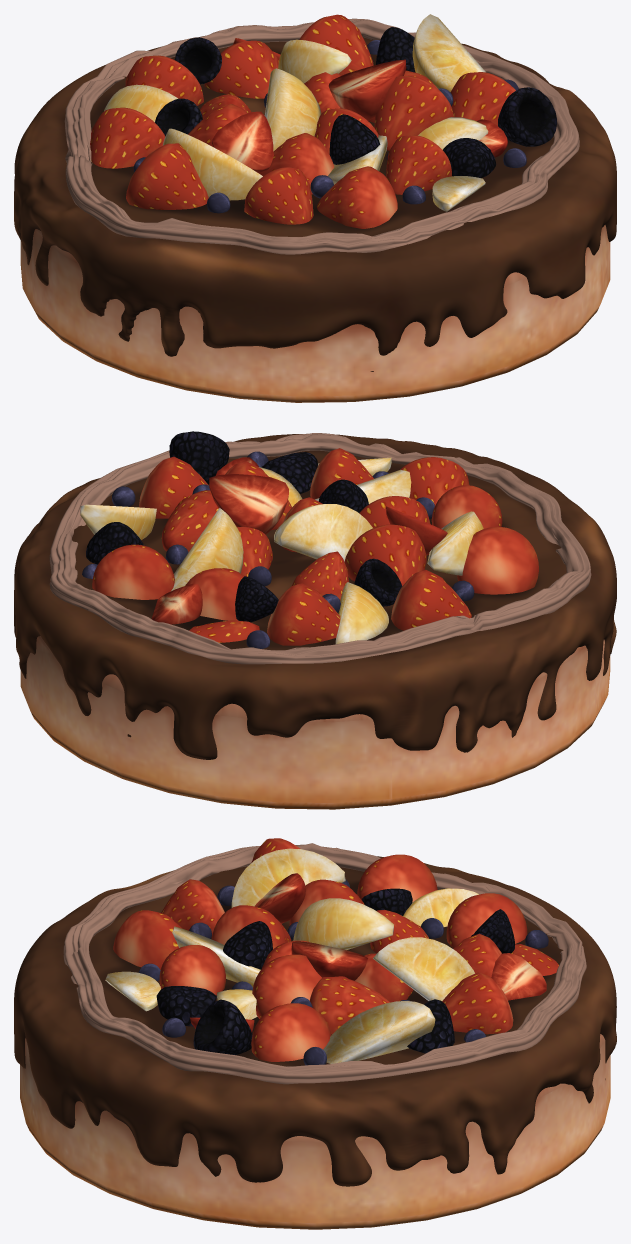
Rendered from fruit_cake.glb.
3 views of the same model, one above another, from view 1: azimuth 30°, elevation 25°; view 2: azimuth 150°, elevation 25°; view 3: azimuth 270°, elevation 25° (orthographic).
Visible parts, largest first — view 1: Object_5, Object_3, Object_4, Object_2, Object_6; view 2: Object_5, Object_4, Object_3, Object_2, Object_6; view 3: Object_5, Object_3, Object_4, Object_2, Object_6.
Boxes of the visible parts, x1,y1,x2,y2 form: Object_5: (14, 14, 610, 402); Object_3: (14, 36, 616, 355); Object_4: (14, 37, 616, 371); Object_2: (64, 18, 579, 254); Object_6: (14, 38, 616, 371); Object_5: (14, 431, 616, 809); Object_4: (14, 437, 616, 759); Object_3: (14, 434, 616, 759); Object_2: (49, 433, 591, 664); Object_6: (14, 434, 616, 758); Object_5: (14, 838, 610, 1229); Object_3: (14, 856, 616, 1182); Object_4: (14, 846, 616, 1186); Object_2: (63, 843, 586, 1084); Object_6: (14, 882, 616, 1172).
Size of the model in its own units: 9.29 by 3.63 by 9.3.
Materials: 1 (1 with a texture image).
